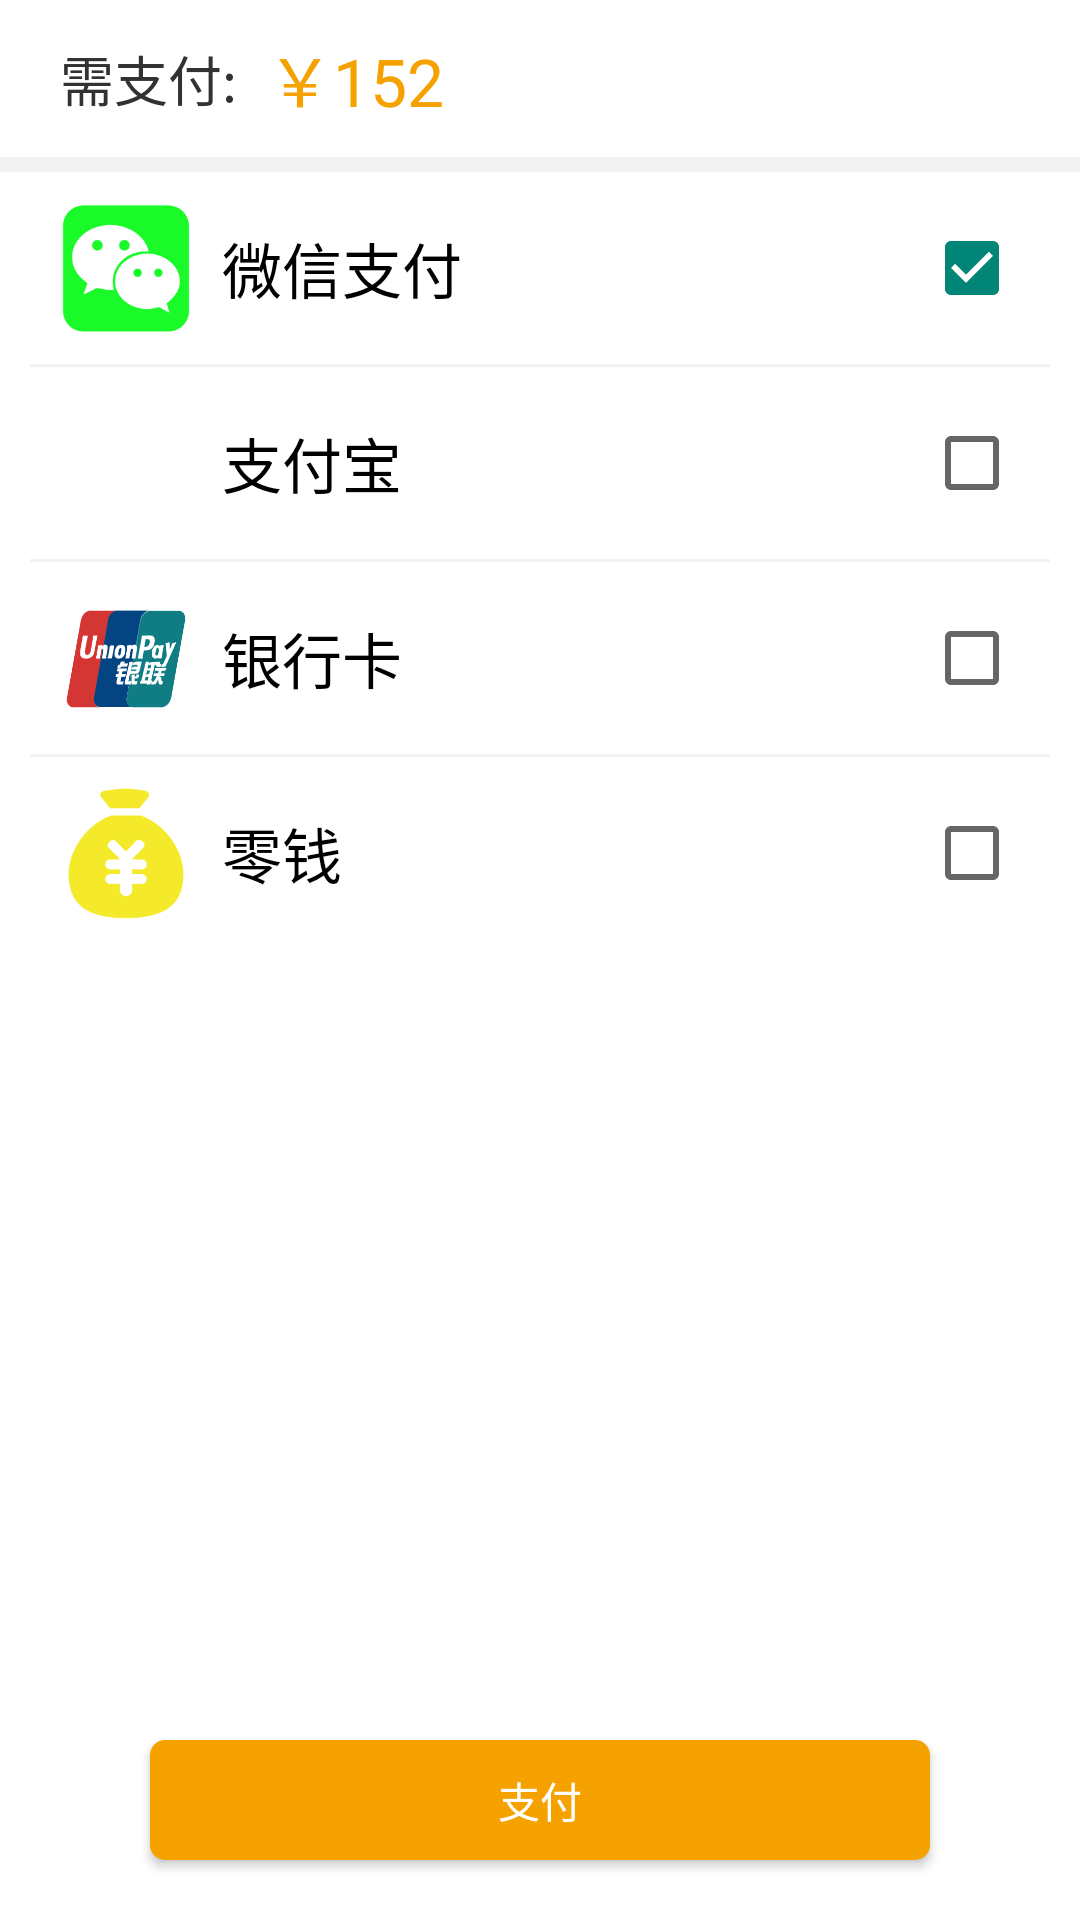

Where icons sit on this 1080*1920 app screen, as (x1,y1,x2,y2):
xjpay: (68,788,184,919)
